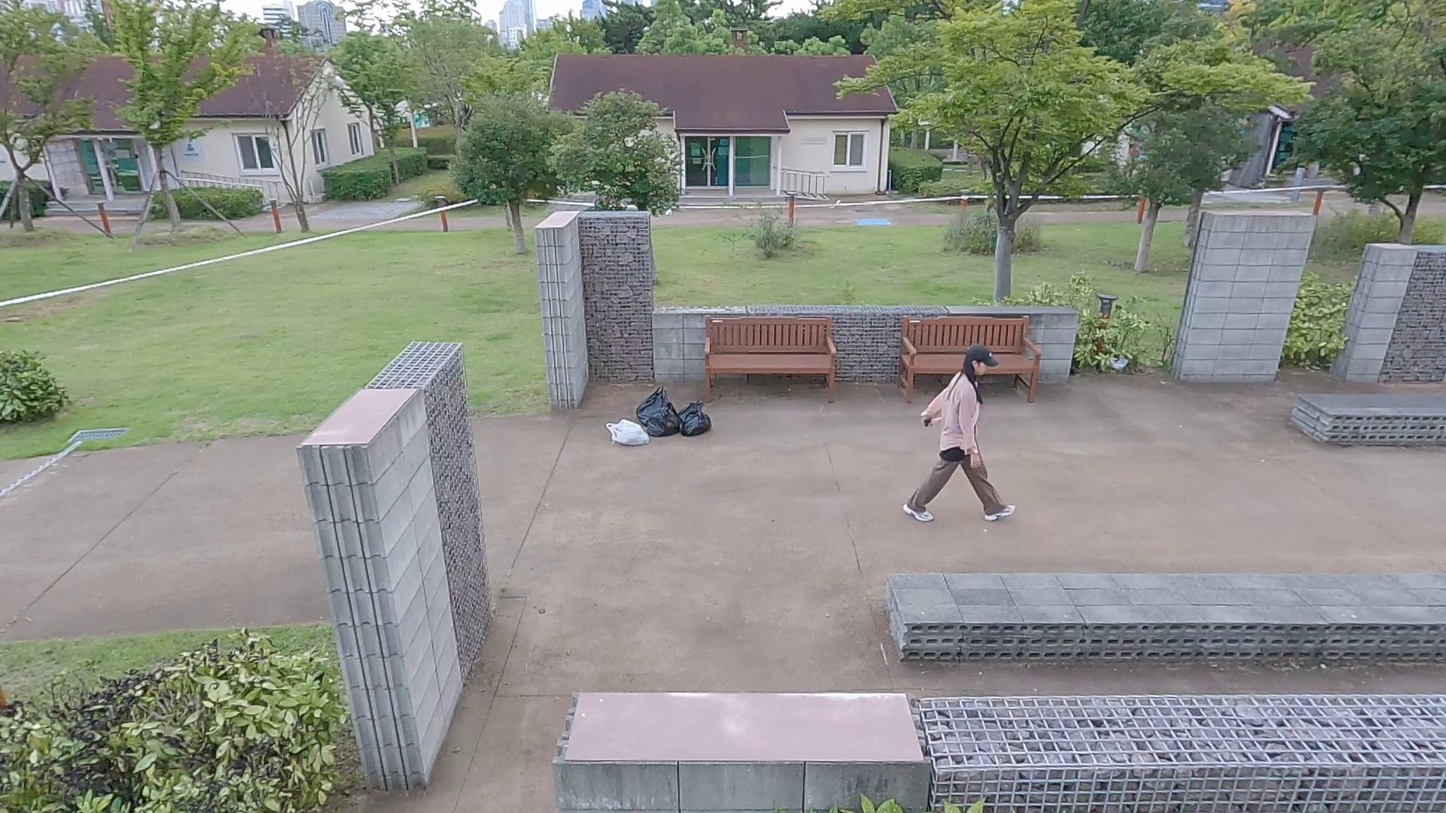person: (900, 342, 1017, 526)
trash: (635, 384, 681, 425), (605, 416, 652, 448), (642, 402, 681, 437), (680, 407, 712, 438), (677, 398, 706, 428), (1109, 354, 1128, 373)
